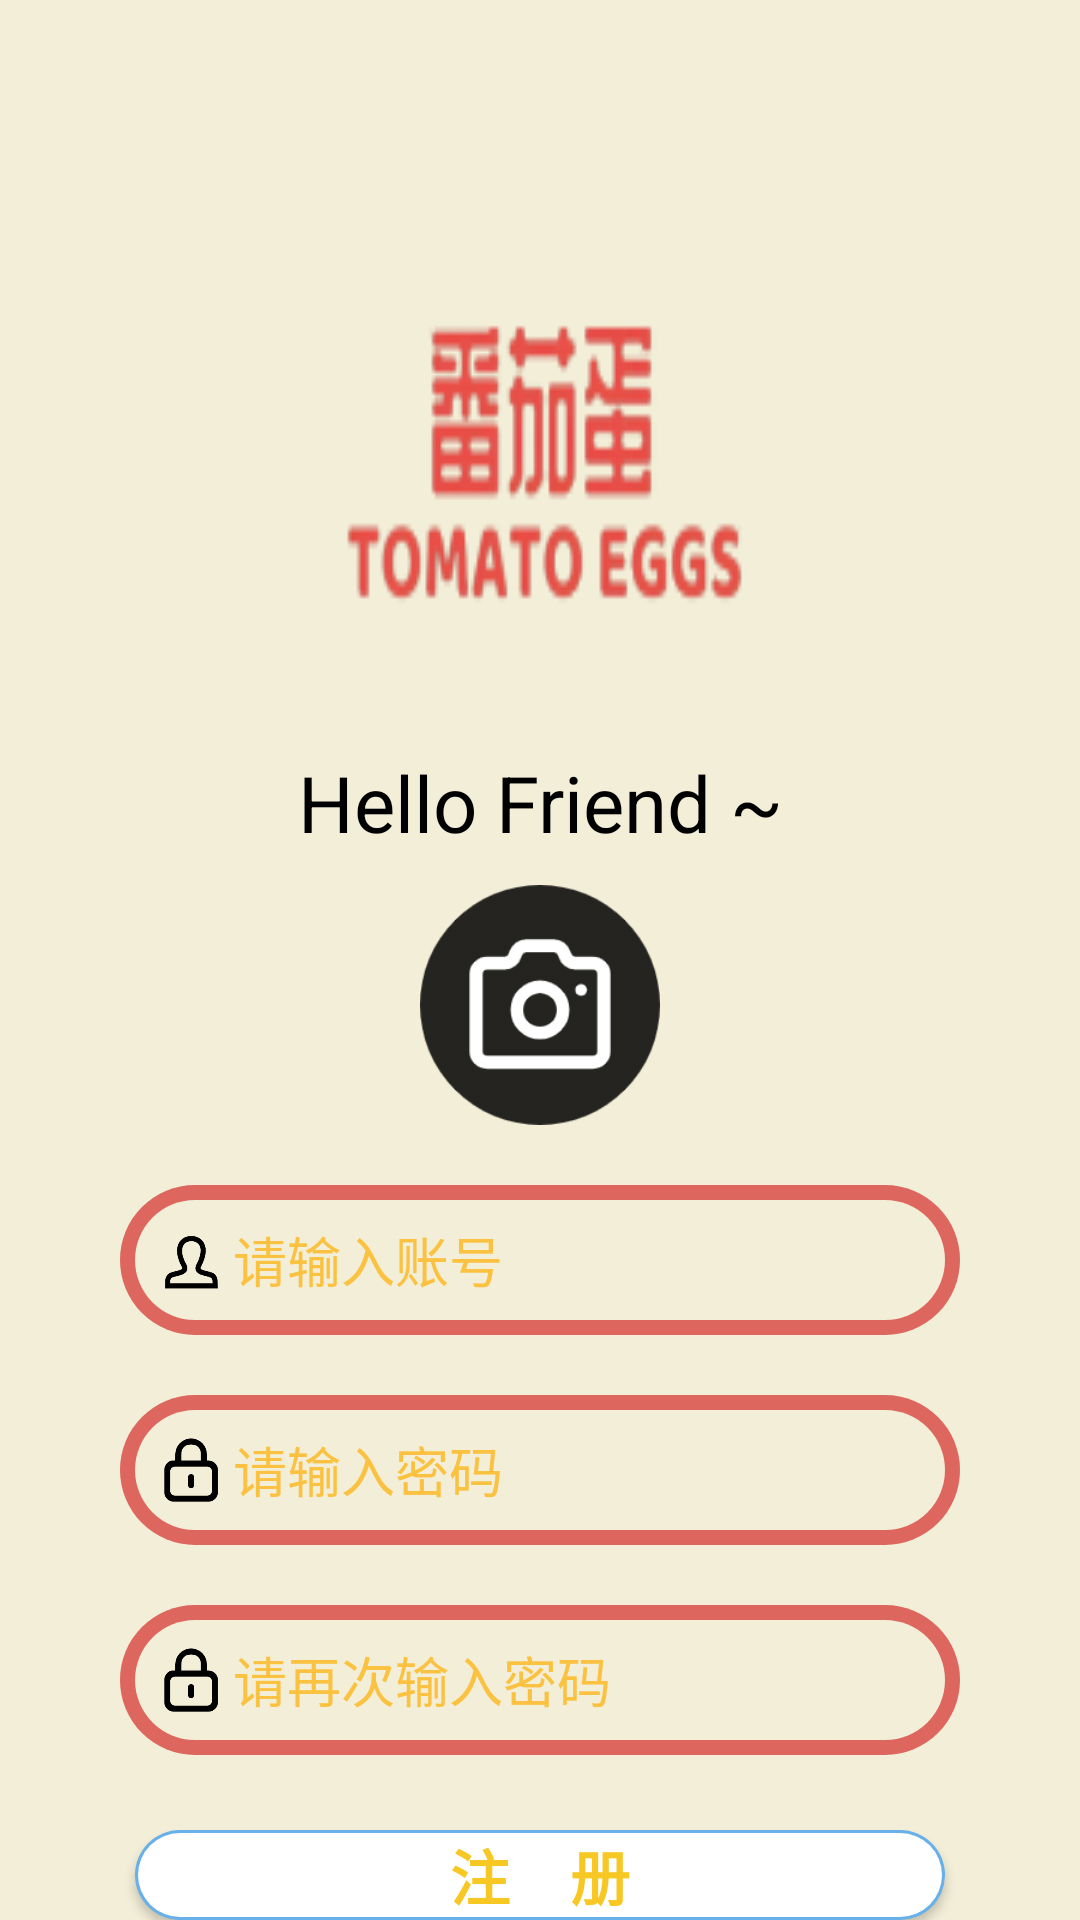

Screen size 1080 × 1920. Icon name, then its center in pixels as (x,y):
password: (191,1470), (191,1680)
touxiang: (540,1005)
user: (191,1262)
